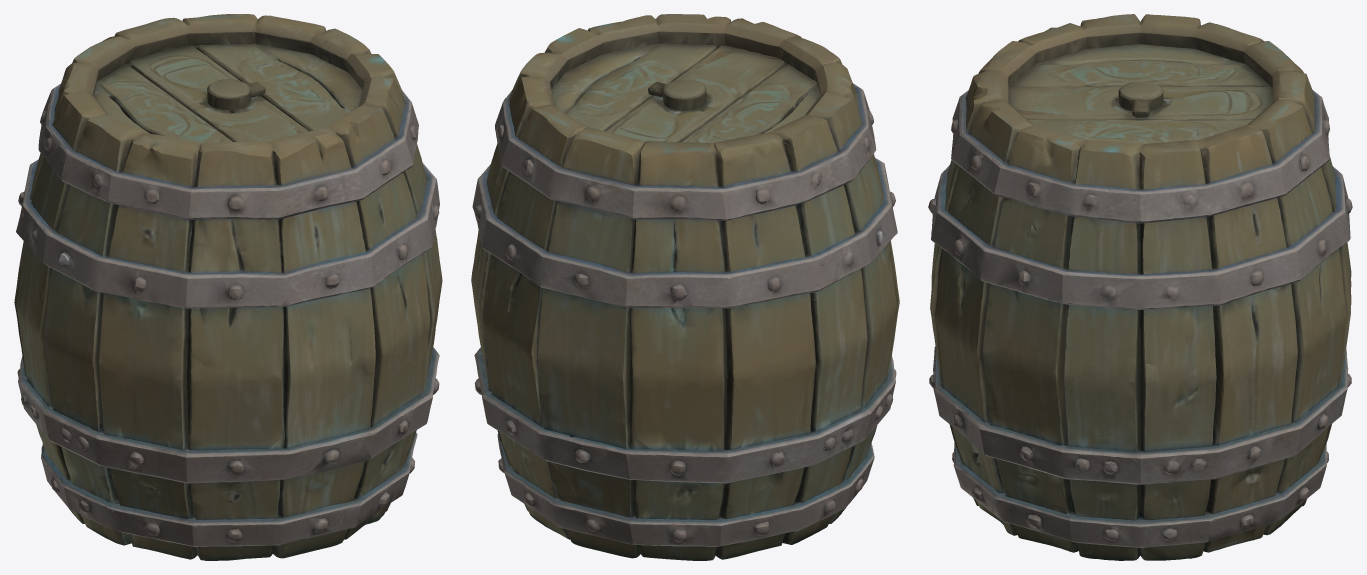
The model's file is barrel.glb.
3 views of the same model, side by side, from view 1: azimuth 30°, elevation 25°; view 2: azimuth 150°, elevation 25°; view 3: azimuth 270°, elevation 25° (orthographic).
Parts seen in each view (by area): view 1: world; view 2: world; view 3: world.
Part boxes in pixels (left/top/right/bottom): world: left=14, top=14, right=442, bottom=560; world: left=471, top=14, right=899, bottom=560; world: left=928, top=14, right=1352, bottom=560.
Bounding box in the file's own units: 0.7127 × 0.75 × 0.7061.
Materials: 1 (1 with a texture image).
